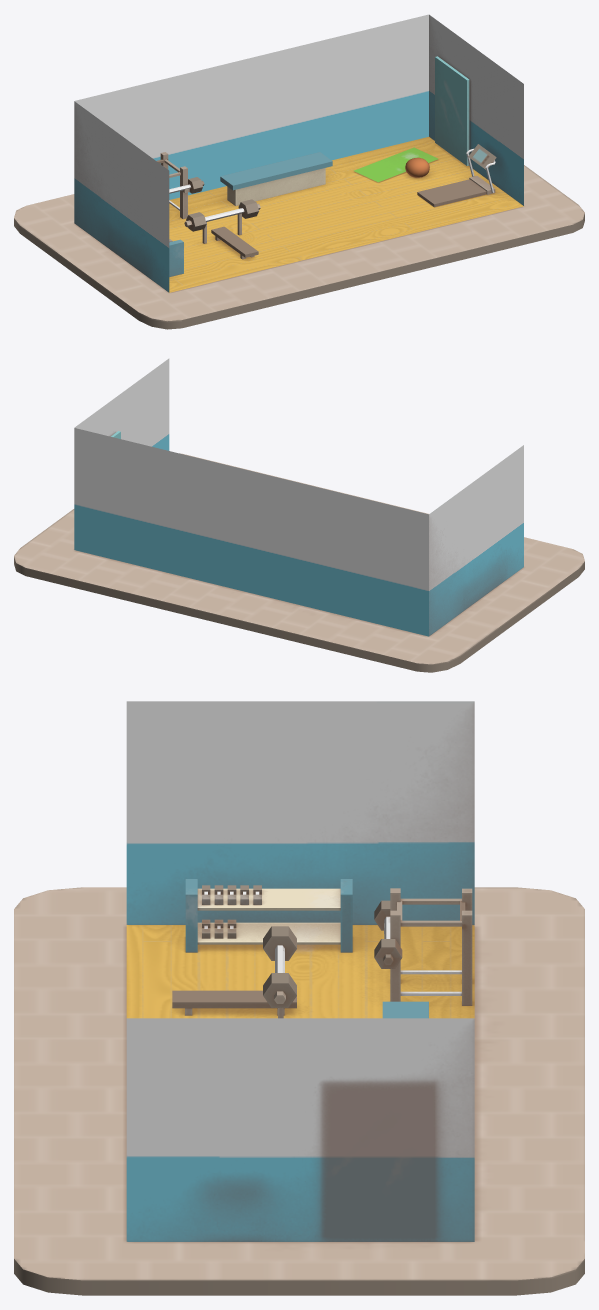
File: BUILD_Inside_GYM.fbx
The picture shows the model from 3 angles, top to bottom: view 1: azimuth 30°, elevation 25°; view 2: azimuth 150°, elevation 25°; view 3: azimuth 270°, elevation 25°; orthographic projection. The views are drawn at different scales.
Parts seen in each view (by area): view 1: Cube.002, Cube.006, Cube.008, Cube.081, Circle, Plane, Cube.009, Cube.007; view 2: Cube.002, Cube.006; view 3: Cube.002, Cube.006, Circle, Cube.013, Cube.018, Cube.019, Circle.003, Cube.007, Cube.011, Cube.020, Cube.014, Cube.021 (+1 smaller).
Part boxes in pixels (x1,y1,x2,y2): Cube.002: (74, 14, 523, 292); Cube.006: (14, 165, 584, 329); Cube.008: (220, 152, 332, 205); Cube.081: (435, 56, 469, 165); Circle: (184, 199, 260, 259); Plane: (353, 147, 438, 182); Cube.009: (417, 179, 486, 207); Cube.007: (169, 239, 183, 276); Cube.002: (74, 358, 523, 636); Cube.006: (14, 453, 584, 672); Cube.002: (126, 701, 474, 1241); Cube.006: (14, 887, 584, 1295); Circle: (172, 926, 296, 1018); Cube.013: (197, 888, 340, 910); Cube.018: (197, 922, 340, 944); Cube.019: (462, 888, 472, 1005); Circle.003: (374, 900, 402, 968); Cube.007: (185, 879, 197, 952); Cube.011: (340, 879, 352, 952); Cube.020: (384, 888, 400, 1001); Cube.014: (202, 885, 261, 904); Cube.021: (400, 898, 461, 926).
Size of the model in its own units: 1698 by 482 by 1043.
1 material, 1 textured.
